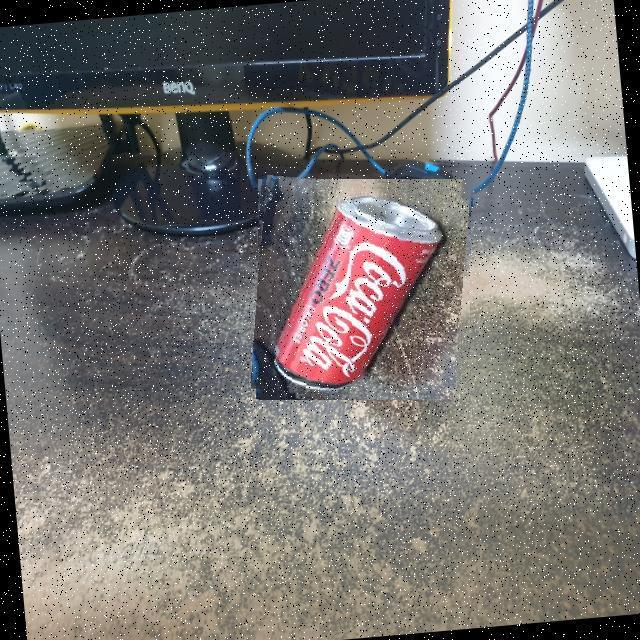recyclable: (252, 179, 472, 399)
